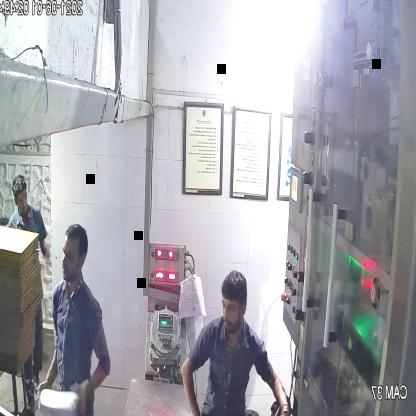no_goggles: (57, 246, 91, 270), (217, 295, 248, 319)
